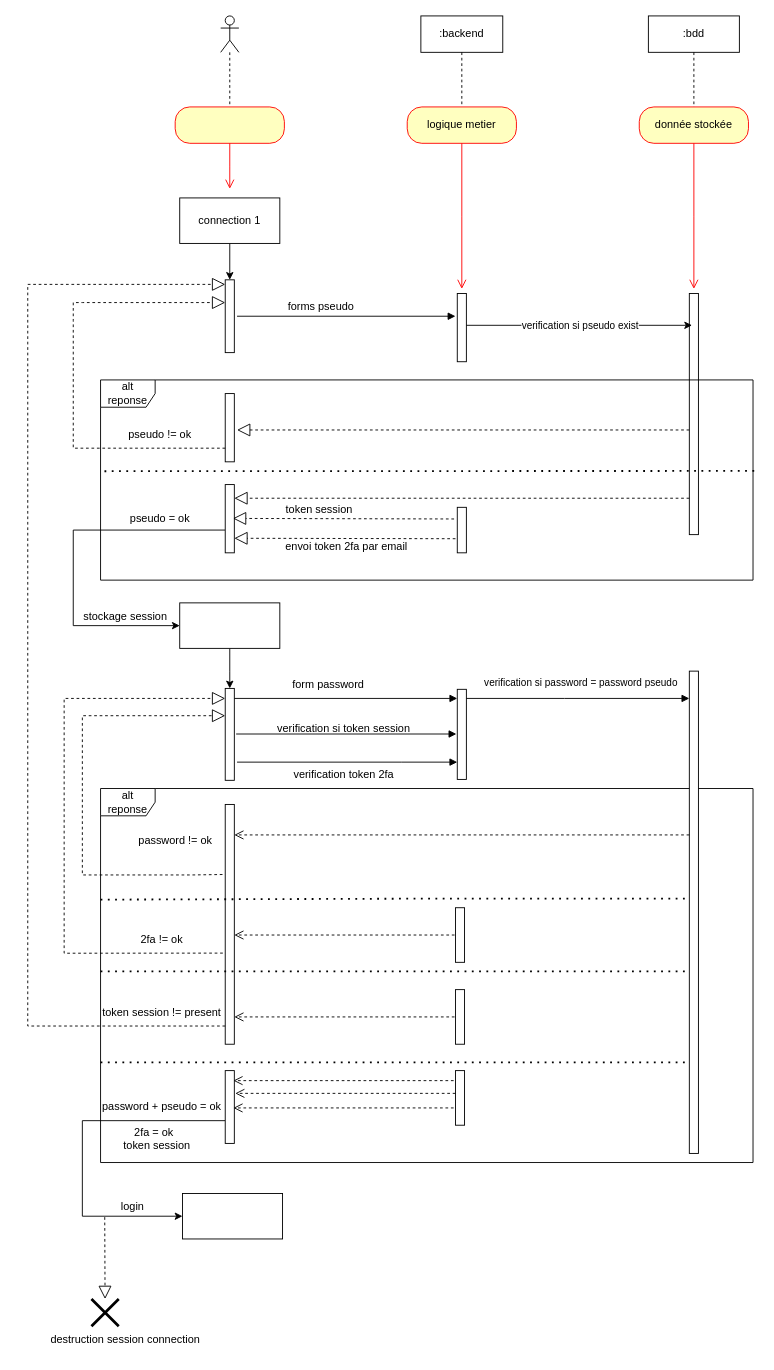
Image size: 774x1370. Some labels were removed from this diagram. Here are the shapes that lost their labels. From the top down, the centre of each, then its label:
At (x=229, y=124): "connection".
At (x=229, y=625): "connection 2".
At (x=232, y=1216): "index".
